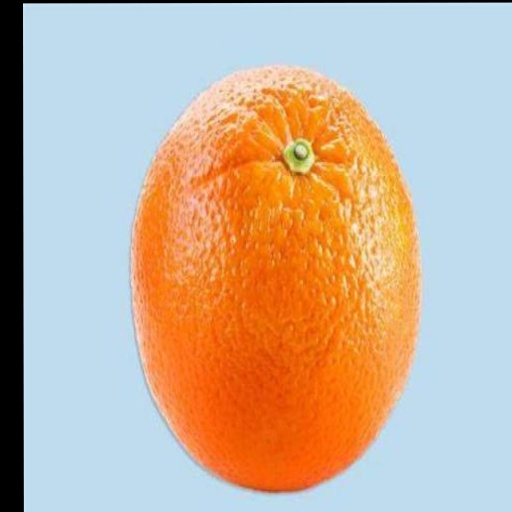fruit: (131, 67, 419, 490)
